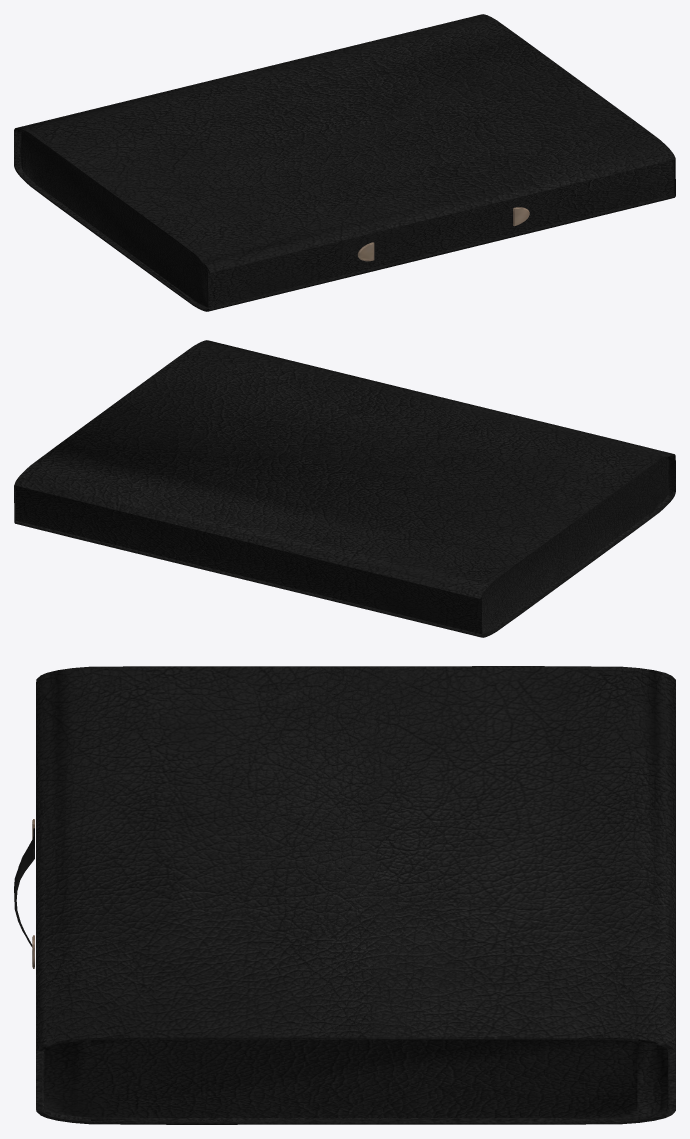
The model's file is Briefcase.FBX.
3 renders of one model, top to bottom at view 1: azimuth 30°, elevation 25°; view 2: azimuth 150°, elevation 25°; view 3: azimuth 270°, elevation 25°, orthographic. The views are drawn at different scales.
Visible parts, largest first — view 1: Briefcase; view 2: Briefcase; view 3: Briefcase.
Boxes of the visible parts, x1,y1,x2,y2 form: Briefcase: [14, 14, 675, 311]; Briefcase: [14, 340, 675, 637]; Briefcase: [14, 666, 675, 1124].
Size of the model in its own units: 42.19 by 4.62 by 31.77.
1 material, 1 textured.
